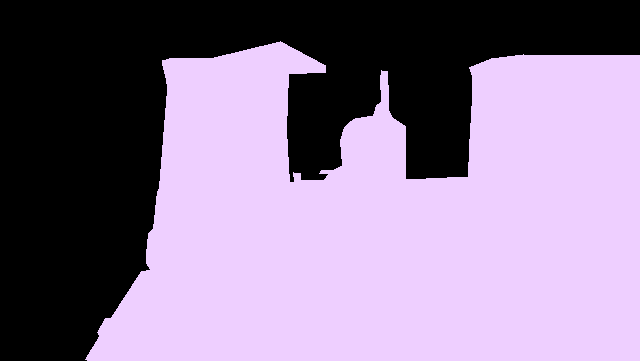Train: (85, 41, 640, 361)
